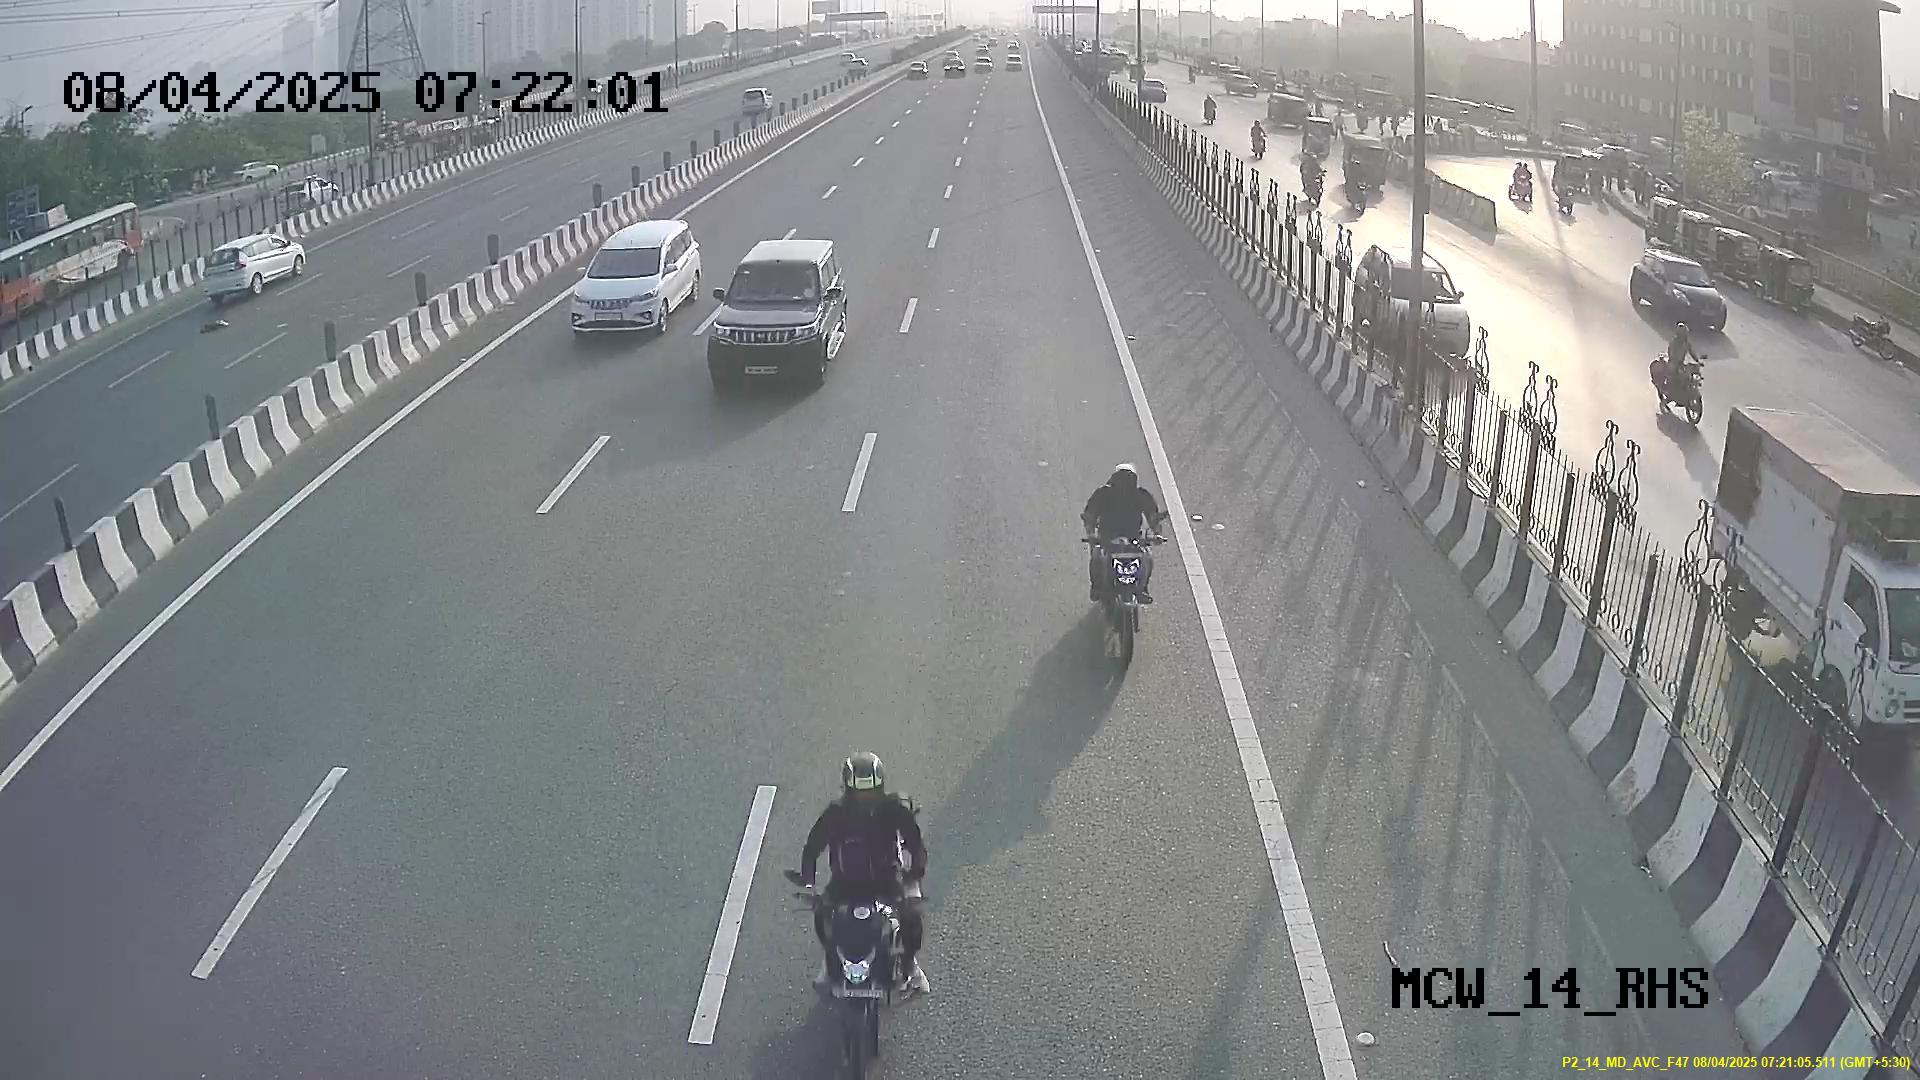bike: (787, 750, 940, 1062), (1077, 459, 1172, 674)
car: (704, 232, 852, 394), (562, 222, 696, 340)
